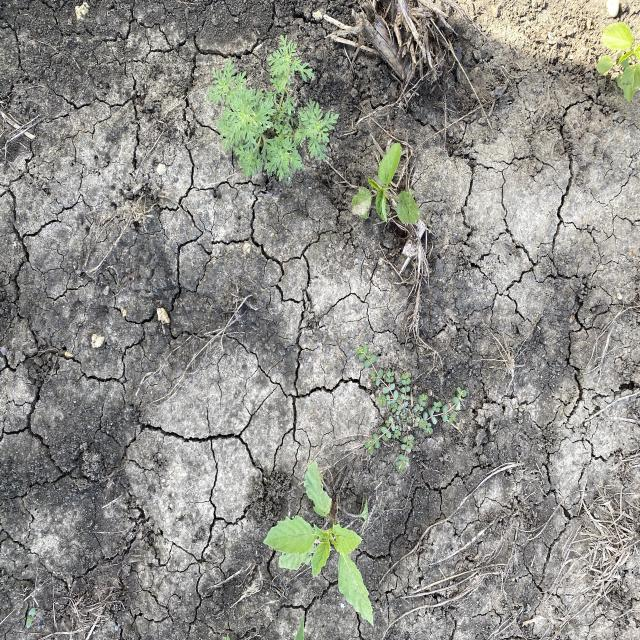CutleafGroundcherry: (261, 458, 377, 630)
PricklySida: (349, 140, 422, 227), (594, 21, 639, 104)
Ragweed: (206, 33, 342, 187)
SpottedSpurge: (353, 338, 469, 474)
